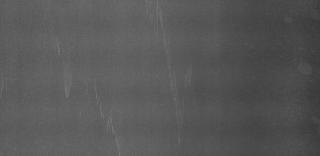silk spot: (89, 87, 129, 155), (164, 67, 196, 143), (149, 8, 183, 58), (54, 69, 78, 95)
